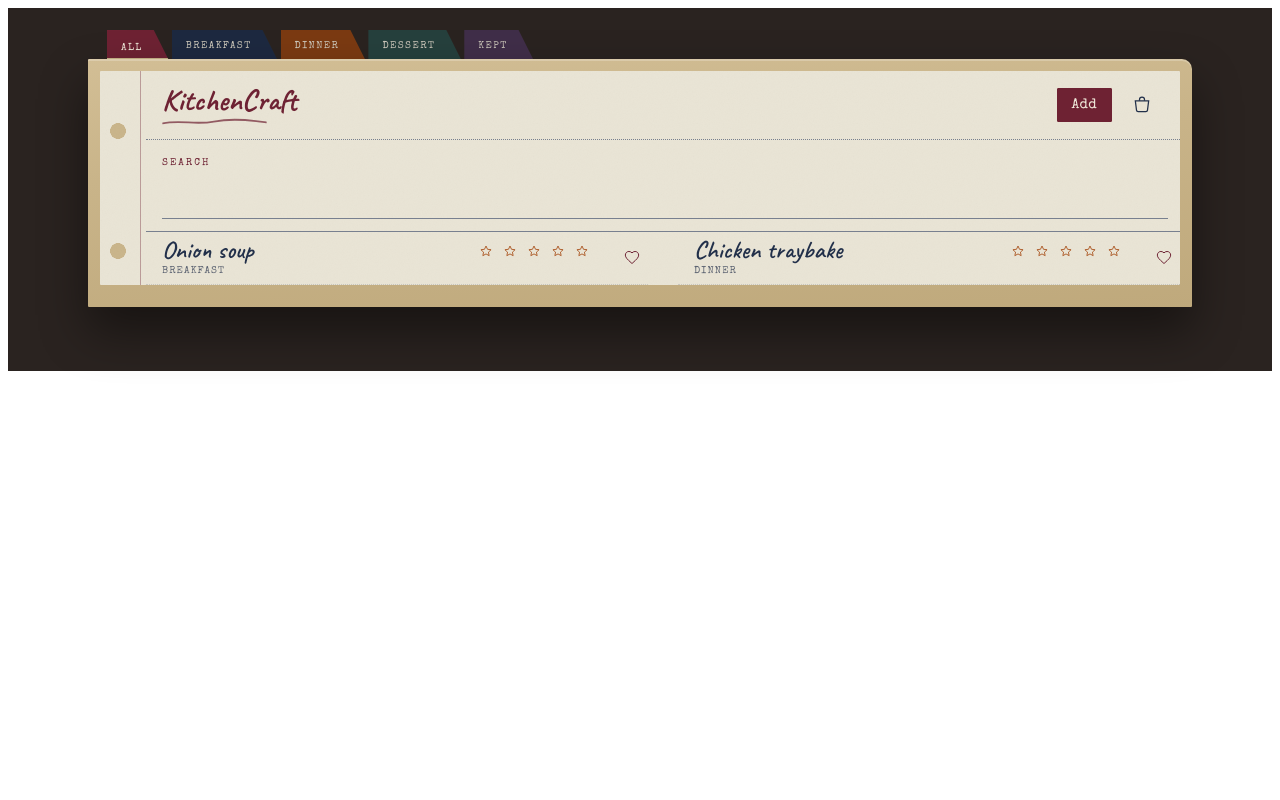
it: the zero-result state › explains why nothing matched, filter by filter
Click the button with test id "tab-dinner" at [323, 45], box top-left (280, 30), bottom-right (365, 60)
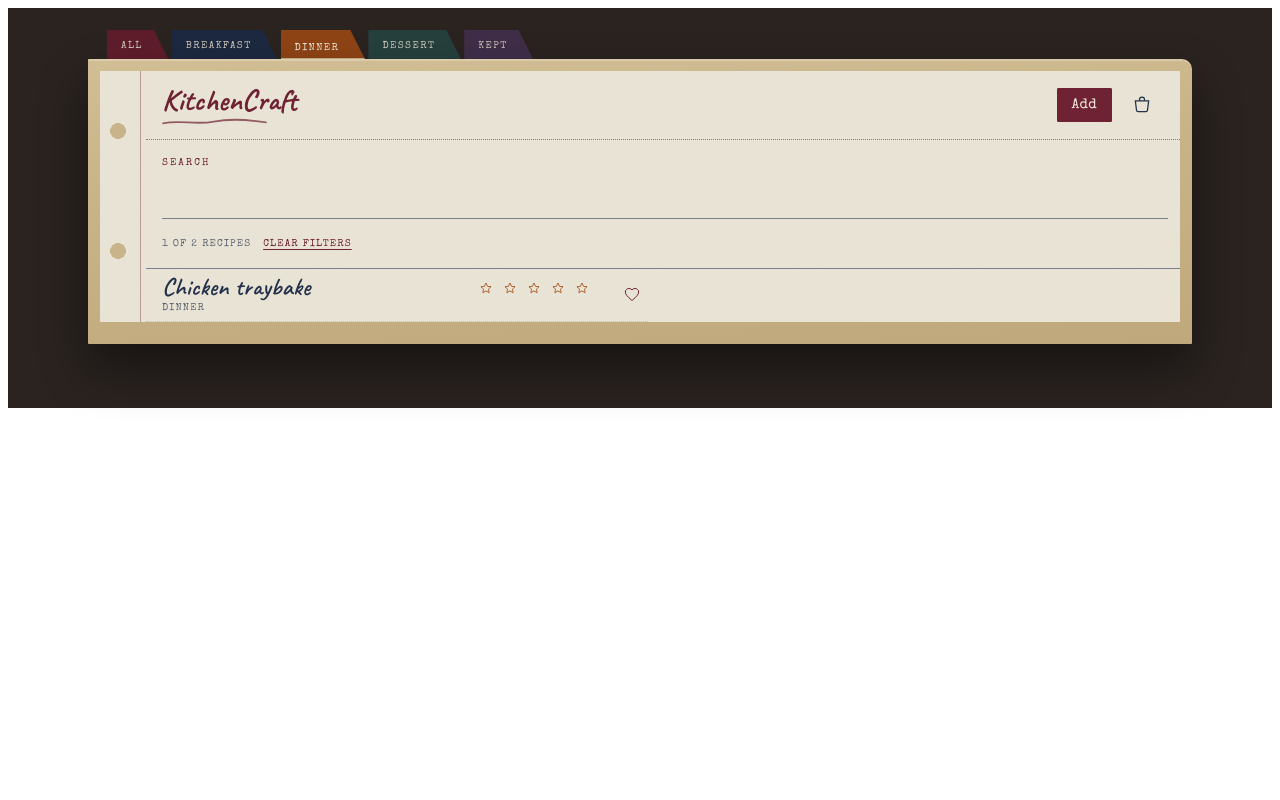
Type "crumble" into the field with test id "search" at [665, 198], box top-left (162, 176), bottom-right (1168, 219)
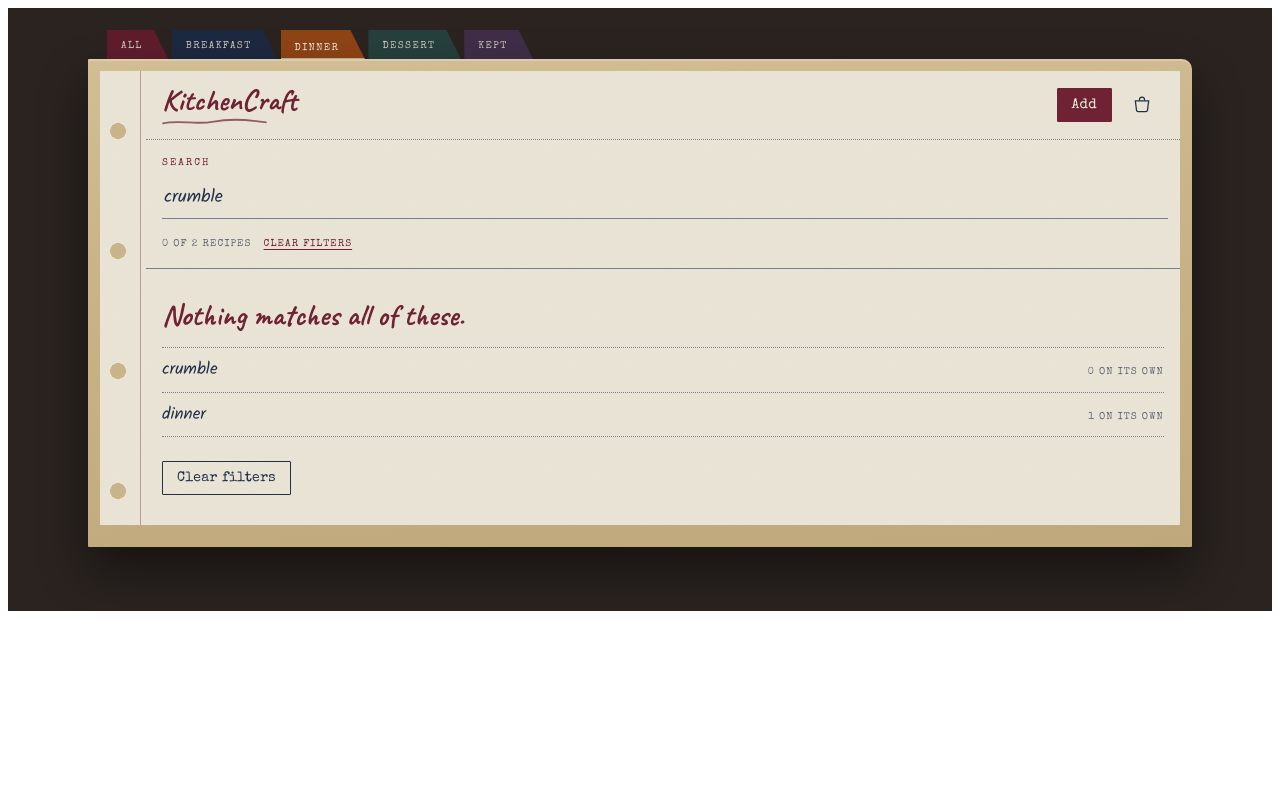
Expected: the element with test id "zero-results" is shown, top-left (146, 269), bottom-right (1180, 525)
Expected: the element with test id "zero-results" shows "Nothing matches all of these.", top-left (162, 296), bottom-right (464, 334)
Expected: the element with test id "zero-results" shows "crumble", top-left (162, 348), bottom-right (1164, 393)
